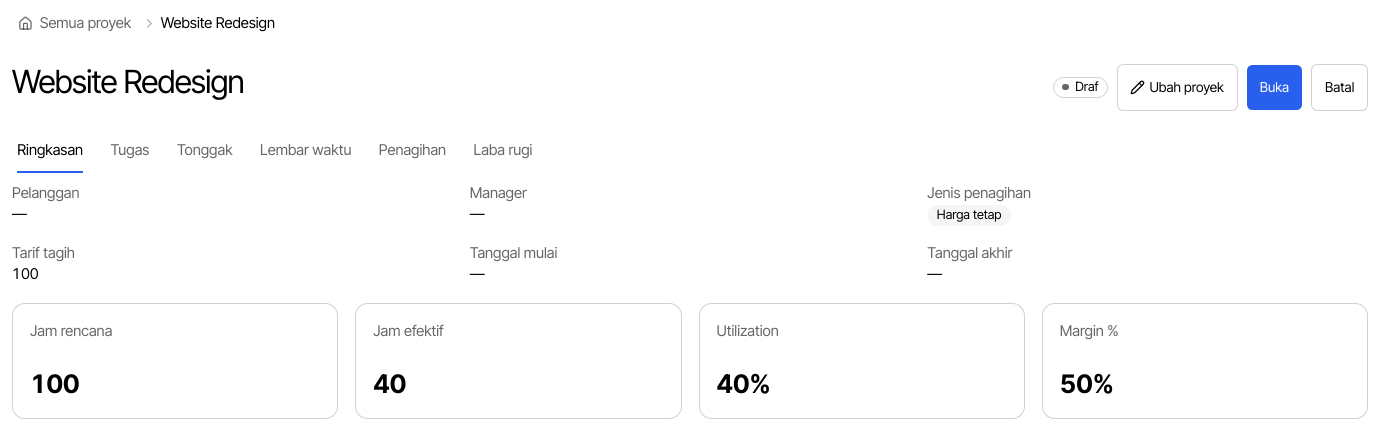
it: ProjectDetail branches3 › renders tasks with deadlines and edit affordance
This screenshot has width=1378, height=436.
Expected: the heading "Website Redesign" is shown, x1=12 y1=64 x2=244 y2=100
Click the tab "Tugas" at (130, 151), box x1=110 y1=128 x2=150 y2=174
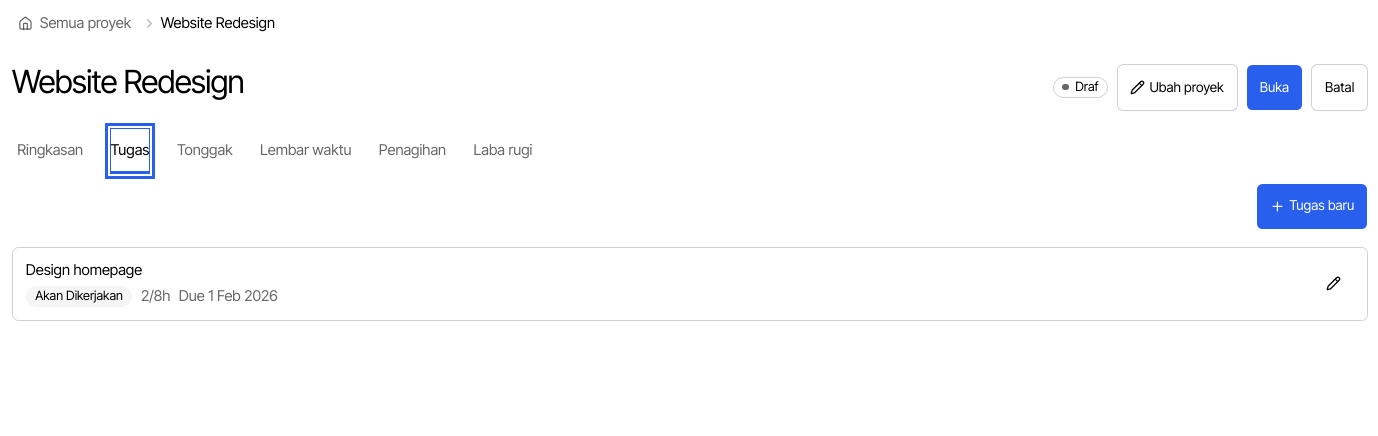
Now the text "Design homepage" is shown, box x1=26 y1=261 x2=142 y2=279
